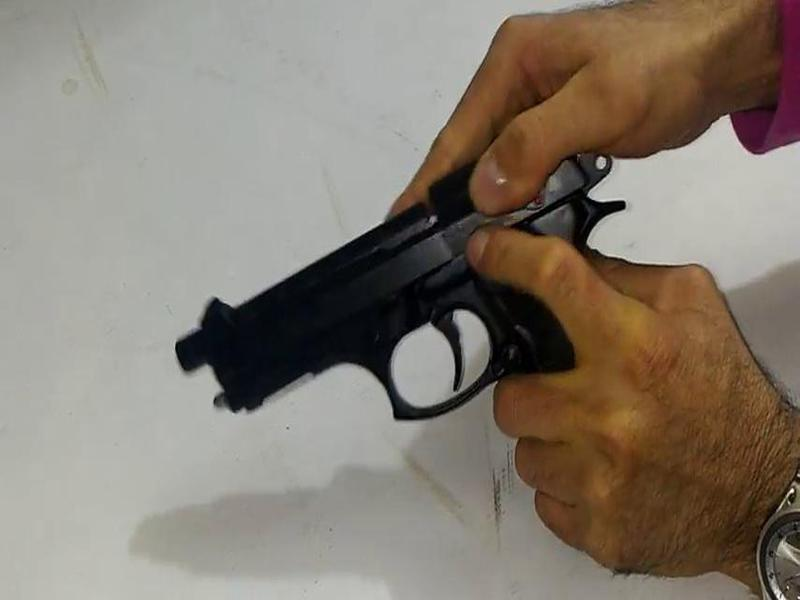Pistola: (150, 124, 677, 443)
